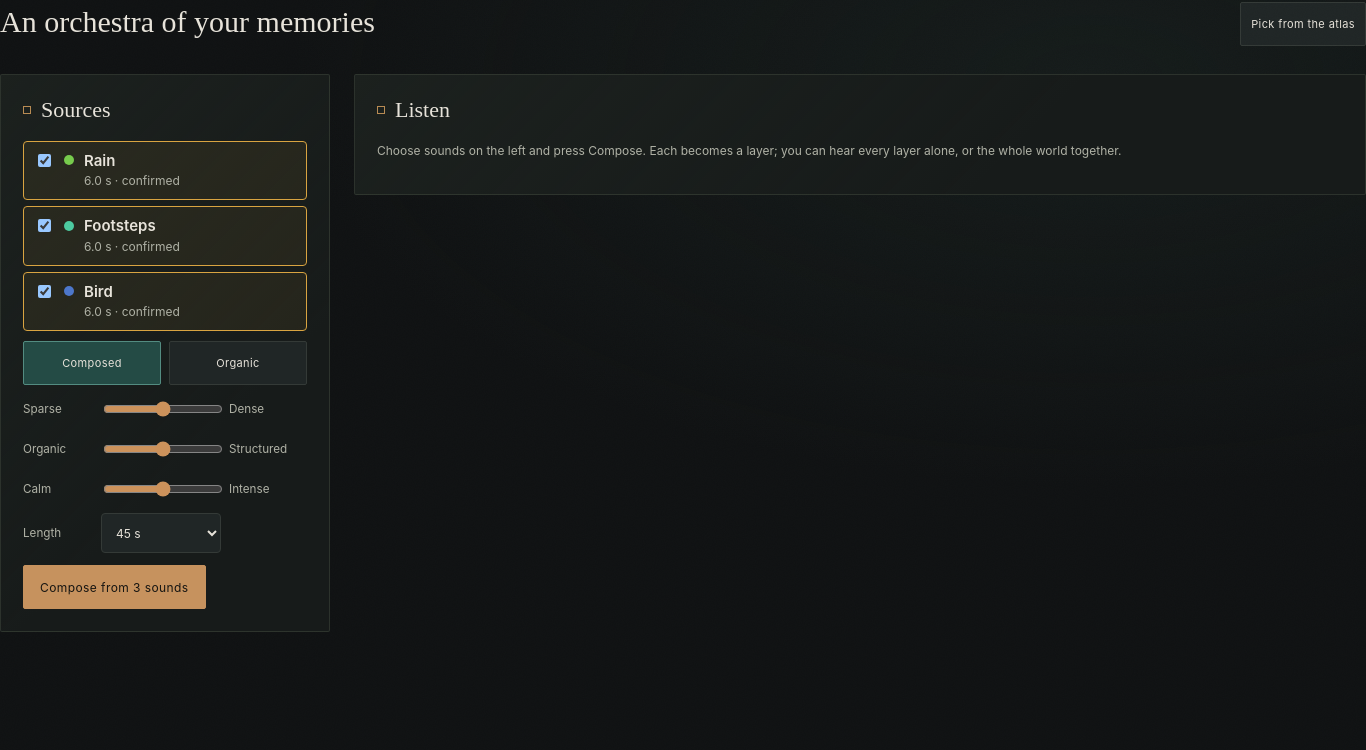
Test: Orchestra view › lists the ready recordings with names from the atlas and composes the chosen sources
Expected: the text "Rain" is shown, [84,150,115,170]
Click the checkbox named "use Footsteps".
click(44, 226)  # box [38,219,51,232]
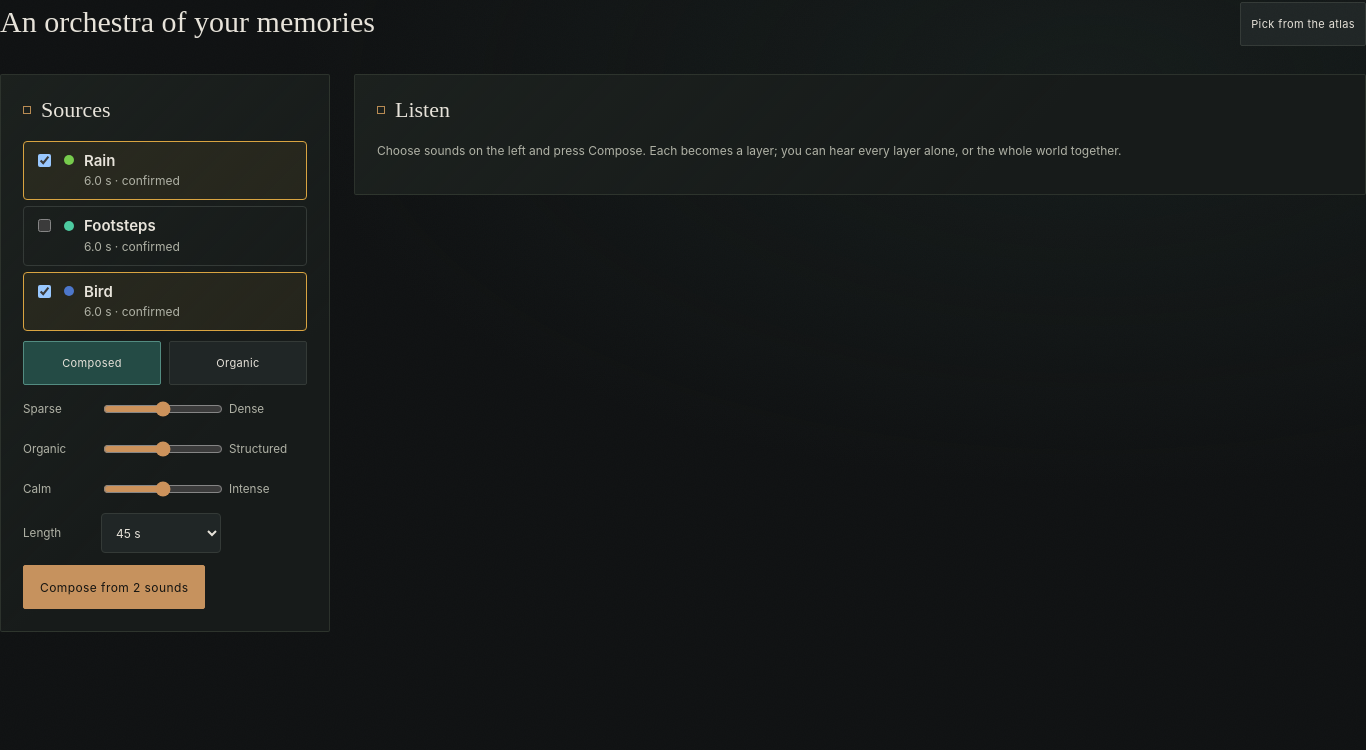
Click the button "Compose from 2 sounds".
click(114, 587)  # box [23,565,206,609]
(page scrolled)
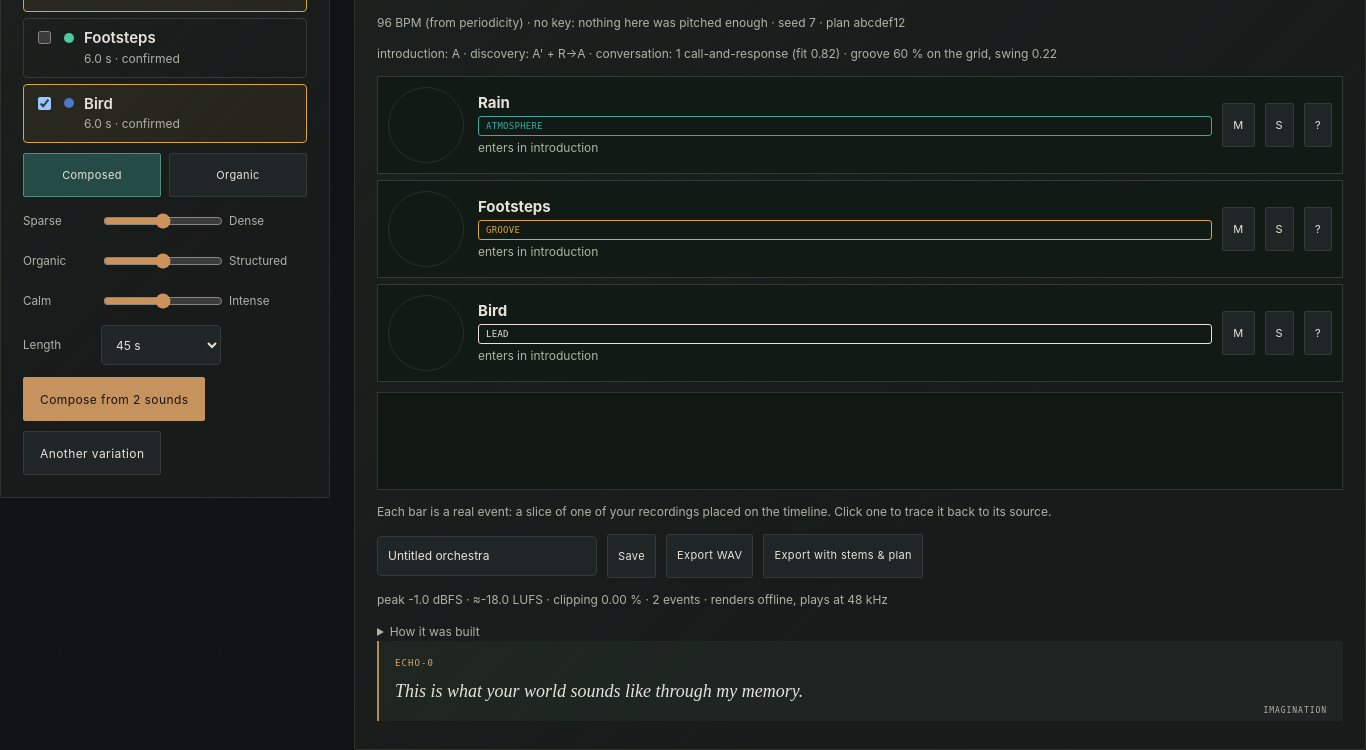
Result: the number of buttons named "mute " is 3 at [1222,103,1254,147]; [1222,207,1254,251]; [1222,311,1254,355]
Result: the text "groove" is shown at [478,220,1212,240]
Result: the text "lead" is shown at [478,324,1212,344]
